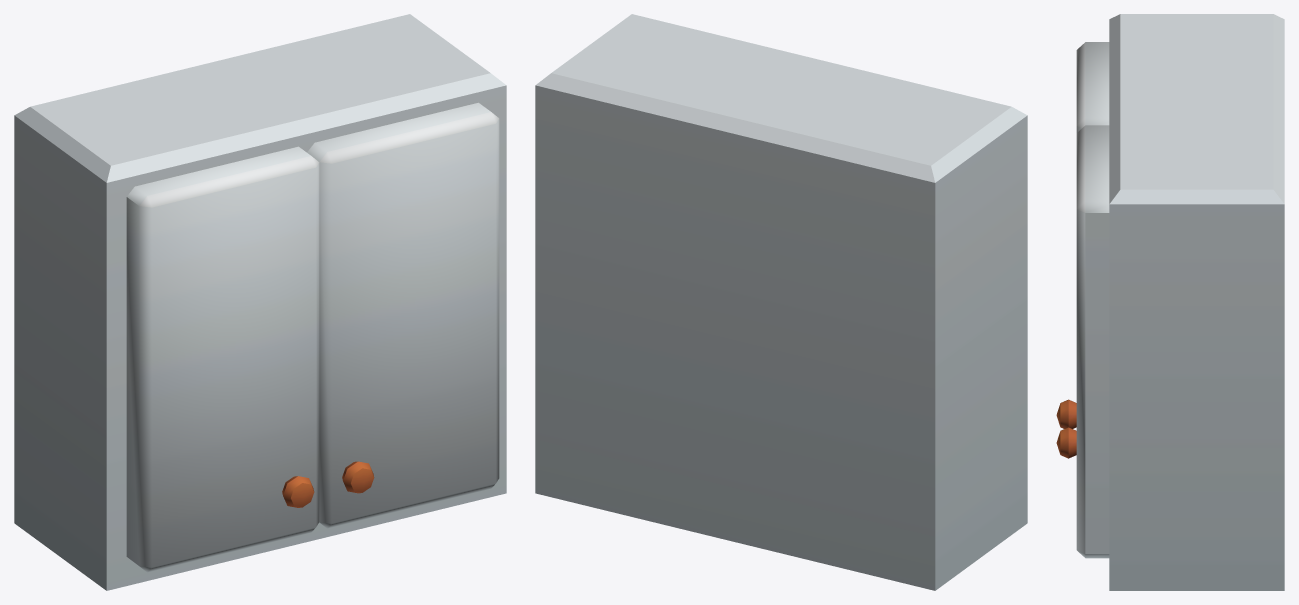
The model's file is cabinet.glb.
3 renders of one model, left to right at view 1: azimuth 30°, elevation 25°; view 2: azimuth 150°, elevation 25°; view 3: azimuth 270°, elevation 25°, orthographic. The views are drawn at different scales.
Parts seen in each view (by area): view 1: kitchencabinet; view 2: kitchencabinet; view 3: kitchencabinet.
Boxes of the visible parts, x1,y1,x2,y2 form: kitchencabinet: (14,14,506,590); kitchencabinet: (535,14,1027,590); kitchencabinet: (1056,14,1284,590).
Size of the model in its own units: 2 by 2 by 1.04.
1 material, 1 textured.
